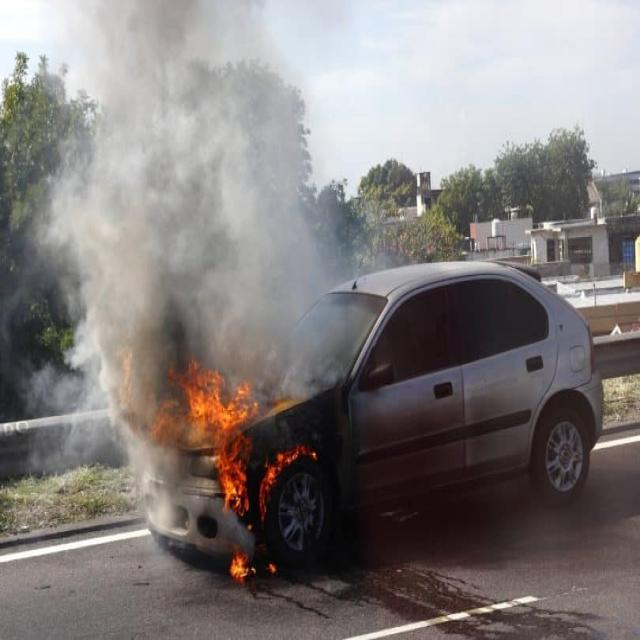Fire: (164, 364, 253, 512), (230, 550, 250, 580)
Smoke: (97, 8, 296, 348)
